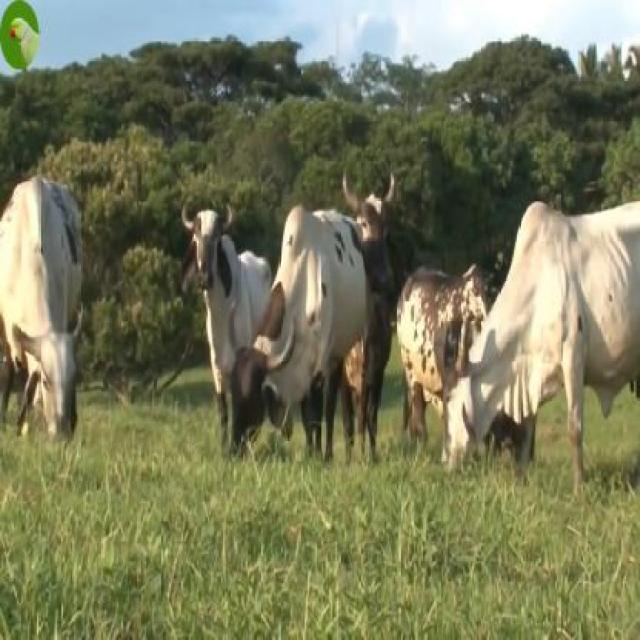Cow: (178, 196, 272, 442)
